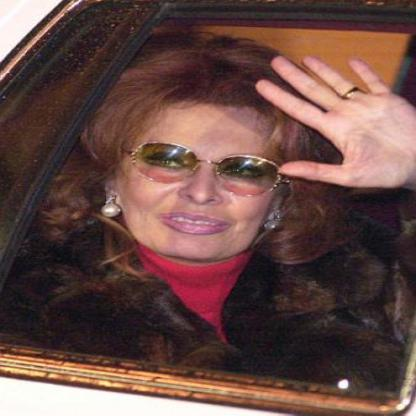face: (122, 71, 294, 267)
